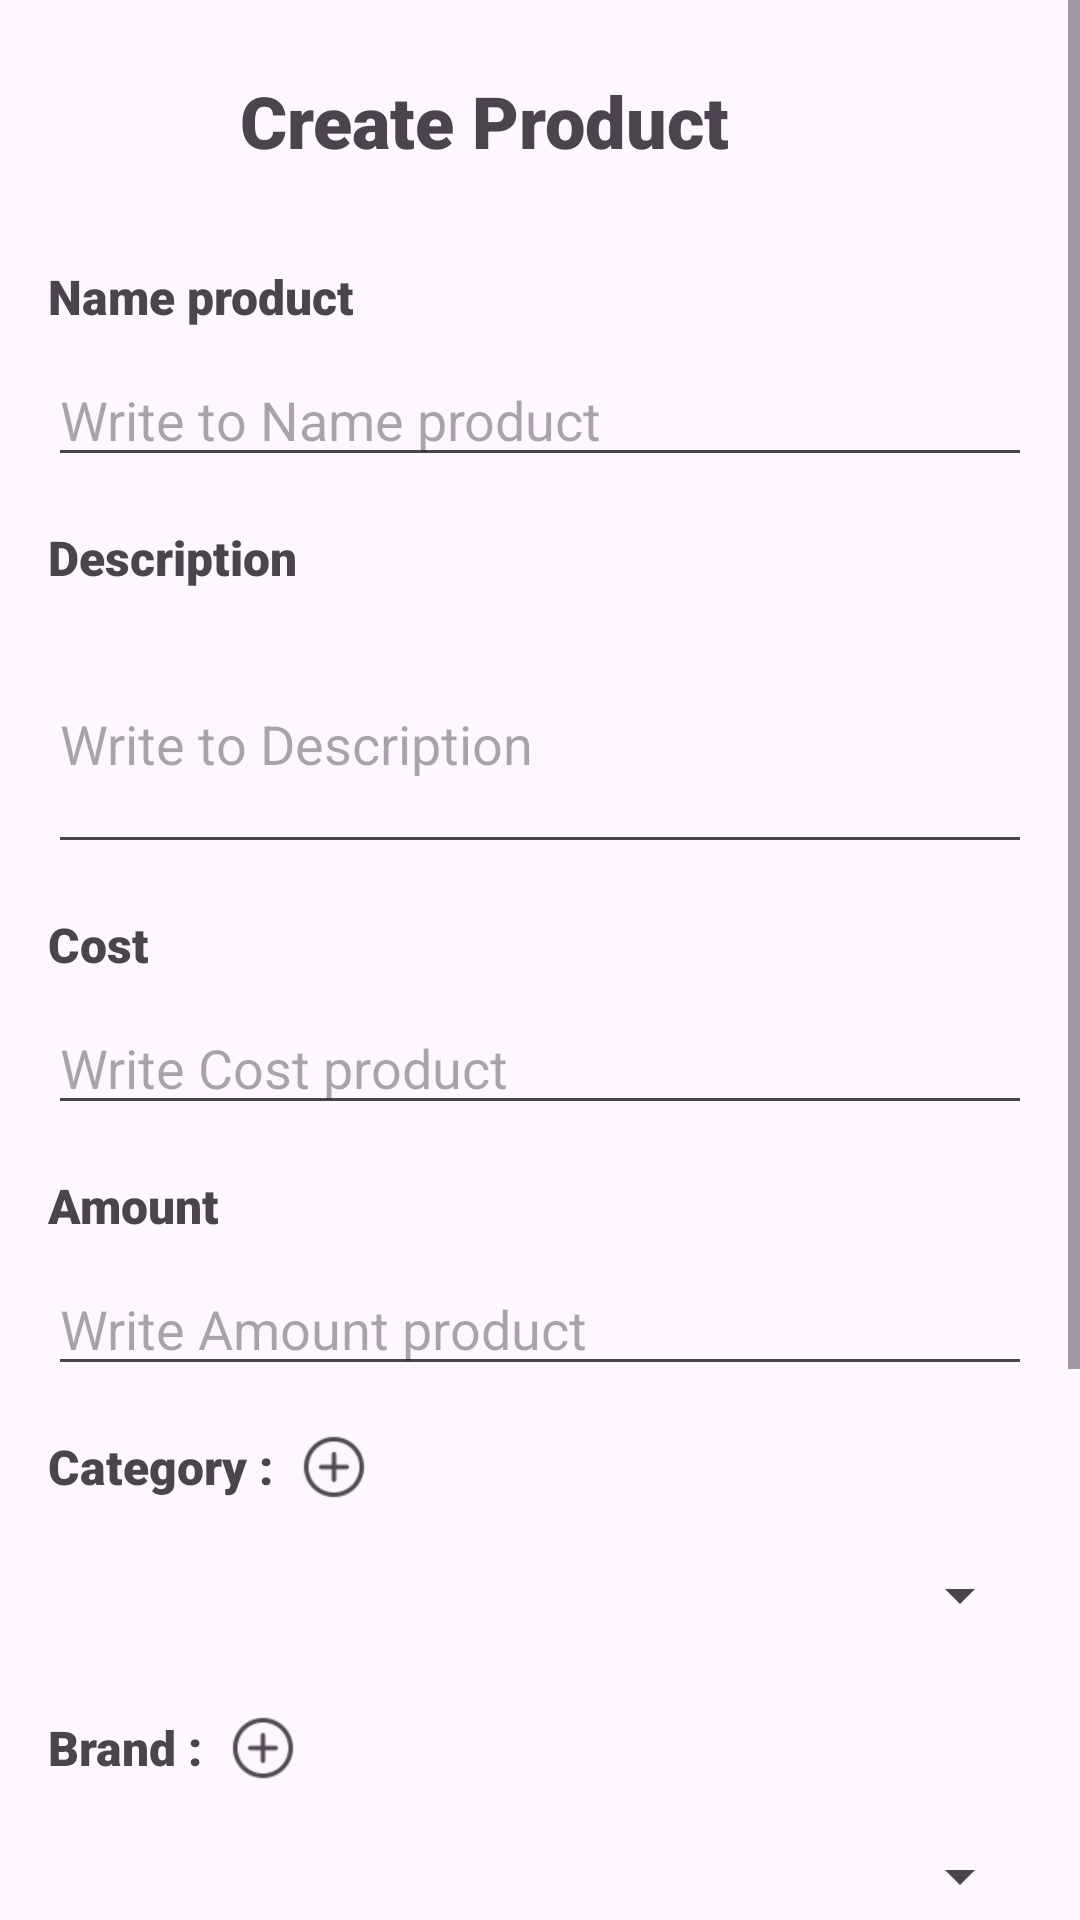

Icons on this 1080 × 1920 Android screen, each with its box as (x1, y1, x2, y2):
plus: (303, 1436, 365, 1498), (232, 1717, 294, 1779)
